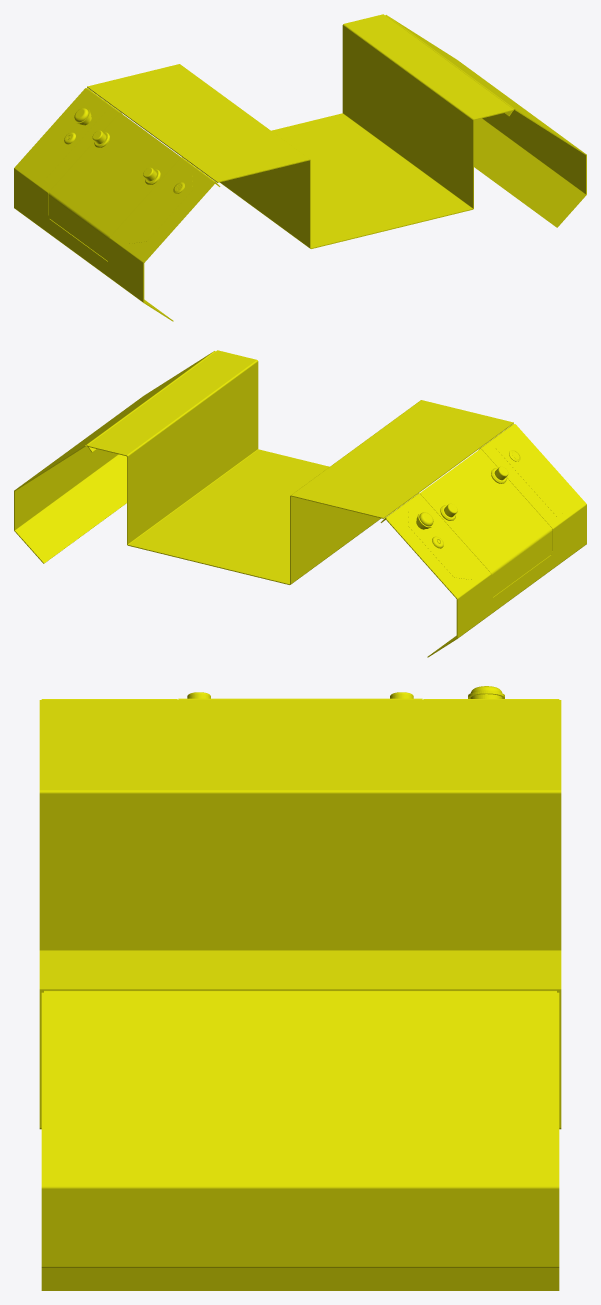
Rendered from top_chassis.glb.
3 renders of one model, top to bottom at view 1: azimuth 30°, elevation 25°; view 2: azimuth 150°, elevation 25°; view 3: azimuth 270°, elevation 25°, orthographic. The views are drawn at different scales.
Parts seen in each view (by area): view 1: Top_Chassis; view 2: Top_Chassis; view 3: Top_Chassis.
Boxes of the visible parts, x1,y1,x2,y2 form: Top_Chassis: [14, 14, 586, 321]; Top_Chassis: [14, 350, 586, 657]; Top_Chassis: [39, 686, 561, 1290].
Size of the model in its own units: 0.812 by 0.2264 by 0.4137.
